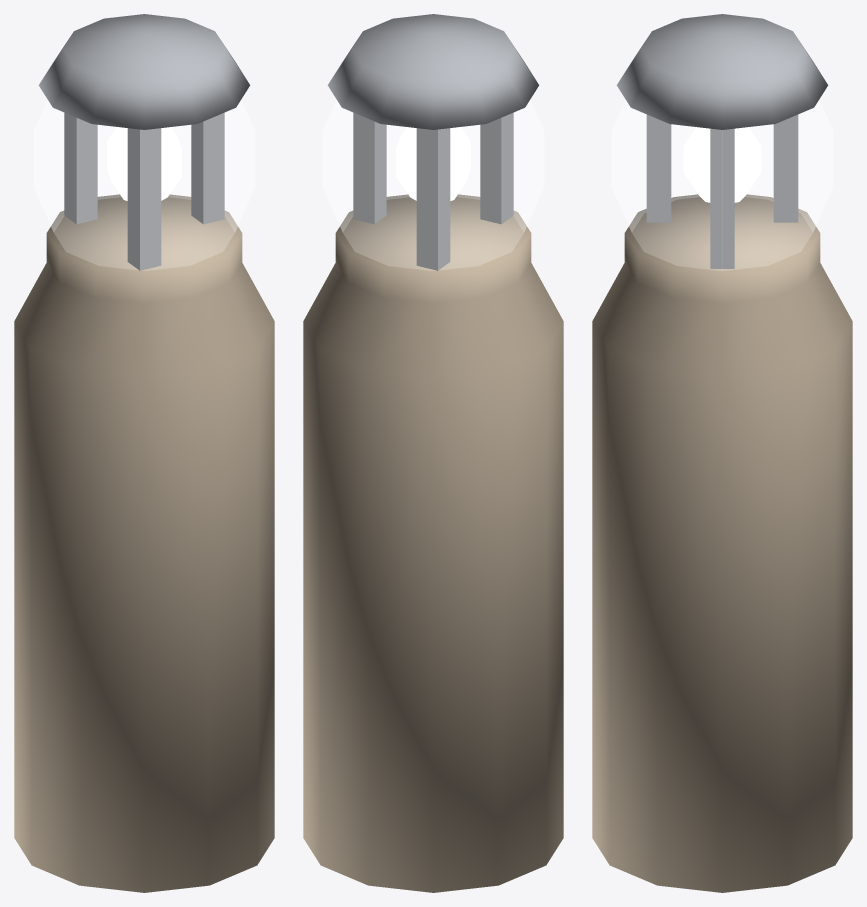
File: city_bollard.glb
3 views of the same model, side by side, from view 1: azimuth 30°, elevation 25°; view 2: azimuth 150°, elevation 25°; view 3: azimuth 270°, elevation 25° (orthographic).
Visible parts, largest first — view 1: CityBollard_Post, CityBollard_Lamp_Halo, CityBollard_Cap, CityBollard_Cage2, CityBollard_Cage0, CityBollard_Cage1, CityBollard_Lamp_Core; view 2: CityBollard_Post, CityBollard_Lamp_Halo, CityBollard_Cap, CityBollard_Cage1, CityBollard_Cage0, CityBollard_Cage2, CityBollard_Lamp_Core; view 3: CityBollard_Post, CityBollard_Lamp_Halo, CityBollard_Cap, CityBollard_Cage0, CityBollard_Lamp_Core, CityBollard_Cage1, CityBollard_Cage2.
Part boxes in pixels (x1=…): CityBollard_Post: x1=14, y1=194, x2=274, y2=892; CityBollard_Lamp_Halo: x1=33, y1=100, x2=255, y2=270; CityBollard_Cap: x1=38, y1=14, x2=250, y2=129; CityBollard_Cage2: x1=127, y1=128, x2=161, y2=270; CityBollard_Cage0: x1=191, y1=112, x2=224, y2=224; CityBollard_Cage1: x1=64, y1=112, x2=97, y2=224; CityBollard_Lamp_Core: x1=107, y1=127, x2=181, y2=200; CityBollard_Post: x1=303, y1=194, x2=563, y2=892; CityBollard_Lamp_Halo: x1=322, y1=100, x2=544, y2=270; CityBollard_Cap: x1=327, y1=14, x2=539, y2=129; CityBollard_Cage1: x1=416, y1=128, x2=450, y2=270; CityBollard_Cage0: x1=353, y1=112, x2=386, y2=224; CityBollard_Cage2: x1=480, y1=112, x2=513, y2=224; CityBollard_Lamp_Core: x1=396, y1=127, x2=470, y2=200; CityBollard_Post: x1=592, y1=194, x2=852, y2=892; CityBollard_Lamp_Halo: x1=611, y1=100, x2=833, y2=270; CityBollard_Cap: x1=616, y1=14, x2=828, y2=129; CityBollard_Cage0: x1=710, y1=128, x2=734, y2=268; CityBollard_Lamp_Core: x1=683, y1=127, x2=761, y2=202; CityBollard_Cage1: x1=773, y1=114, x2=798, y2=222; CityBollard_Cage2: x1=646, y1=114, x2=671, y2=222.
Size of the model in its own units: 0.32 by 1.09 by 0.32.
